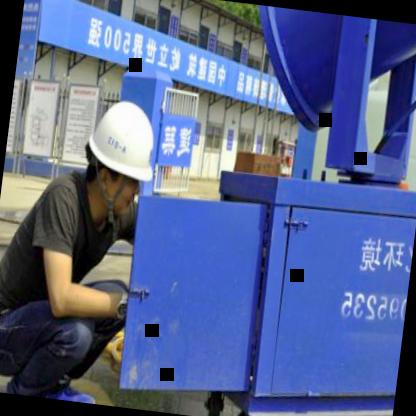helmet: (74, 81, 172, 235)
